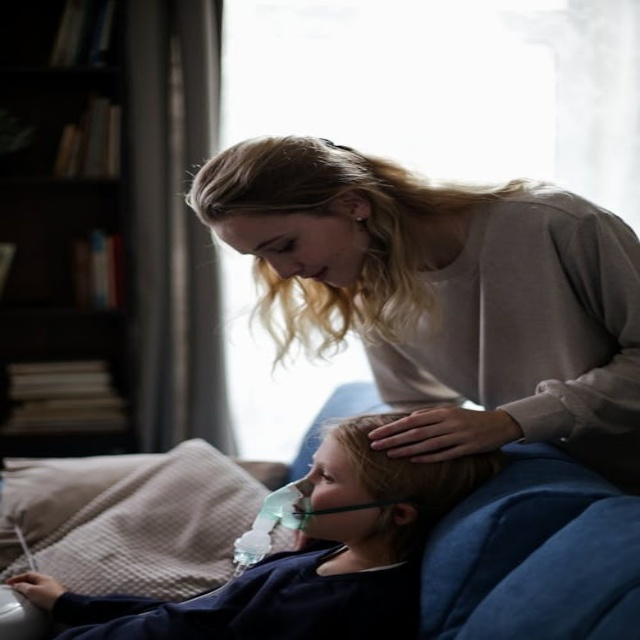Mascara: (234, 477, 402, 567)
Sin_gafas: (244, 222, 307, 266), (305, 456, 360, 488)
Sin_guantes: (367, 404, 511, 461), (4, 572, 63, 610)
Sin_mascara: (300, 259, 342, 288)
